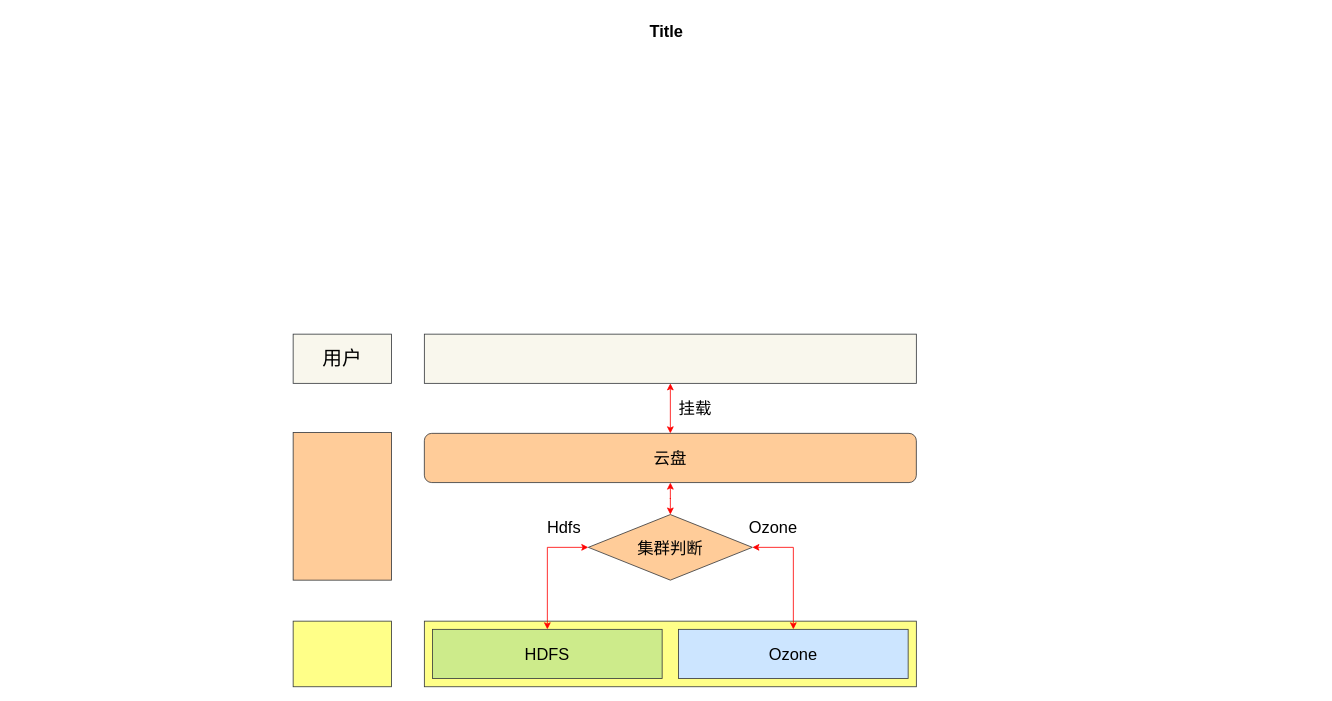
Some shapes in this 1332 by 701 pixel diagram are drawn without their labels. The shapes that lost their labels are listed below. From the top down, each one's centre as x and y in pixels, then its label:
[670,358]: GPU训练 mount /code/data
[342,506]: fuse
[342,653]: 集群
